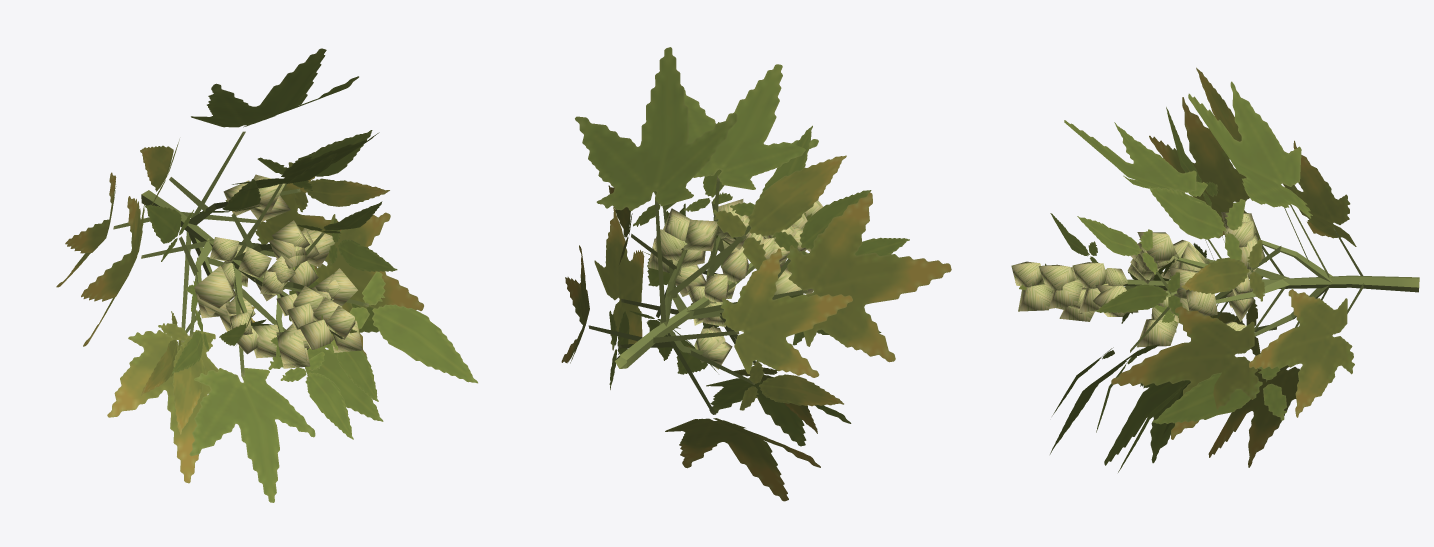
The model's file is p_male_auto_ripe_c1_cards.obj.
3 renders of one model, left to right at view 1: azimuth 30°, elevation 25°; view 2: azimuth 150°, elevation 25°; view 3: azimuth 270°, elevation 25°, orthographic. The views are drawn at different scales.
Bounding box in the file's own units: 1.23 × 1.38 × 0.988.
1 material, 1 textured.
